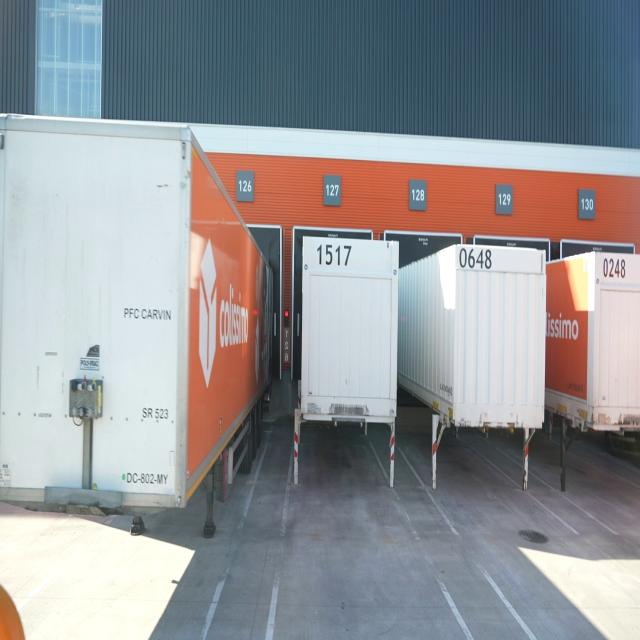Code: (316, 235, 356, 272), (456, 242, 495, 274), (600, 255, 628, 284)
